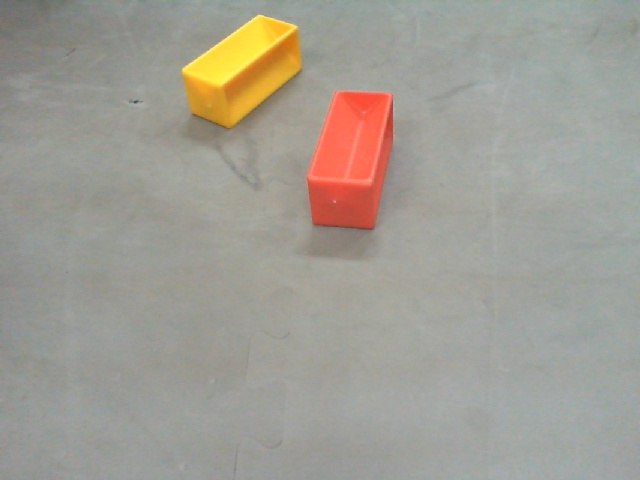RedSample: (306, 90, 391, 231)
YellowSample: (181, 11, 304, 131)
